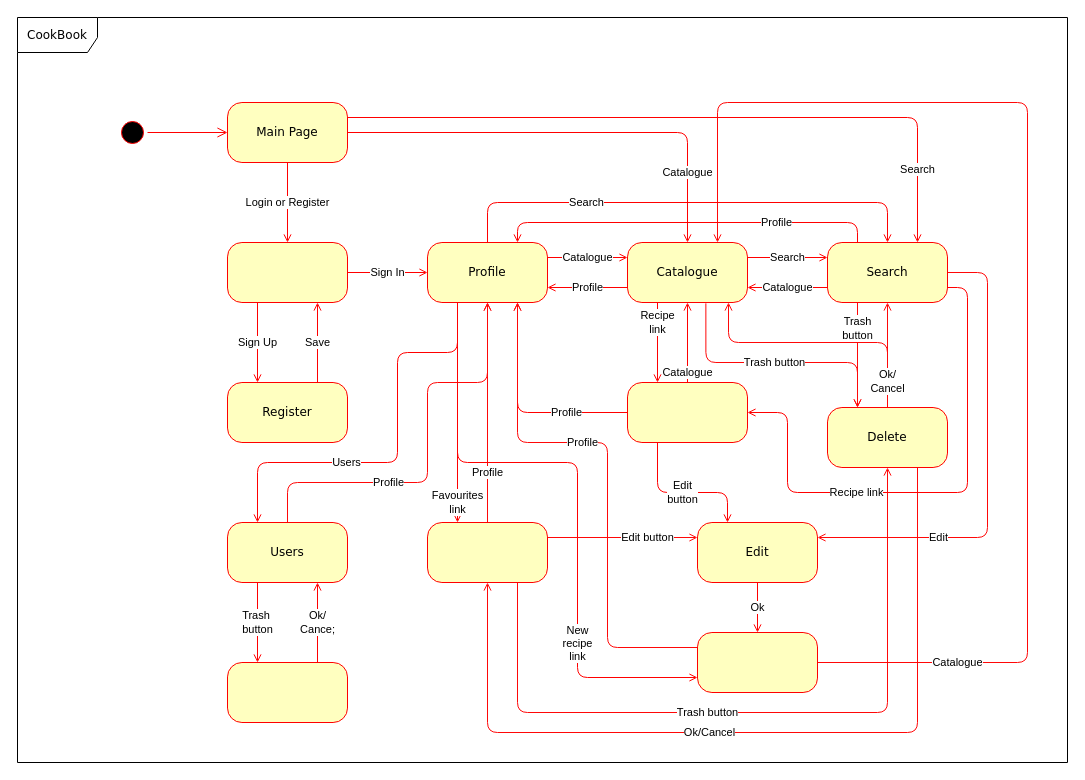
This 1085x780 diagram has some shape labels left out. Here are the shapes that lost their labels. From the top down, the centre of each, then its label:
At pixel 287 272: "Login".
At pixel 687 412: "Recipe".
At pixel 487 552: "Favourites".
At pixel 757 662: "New".
At pixel 287 692: "Ban".
